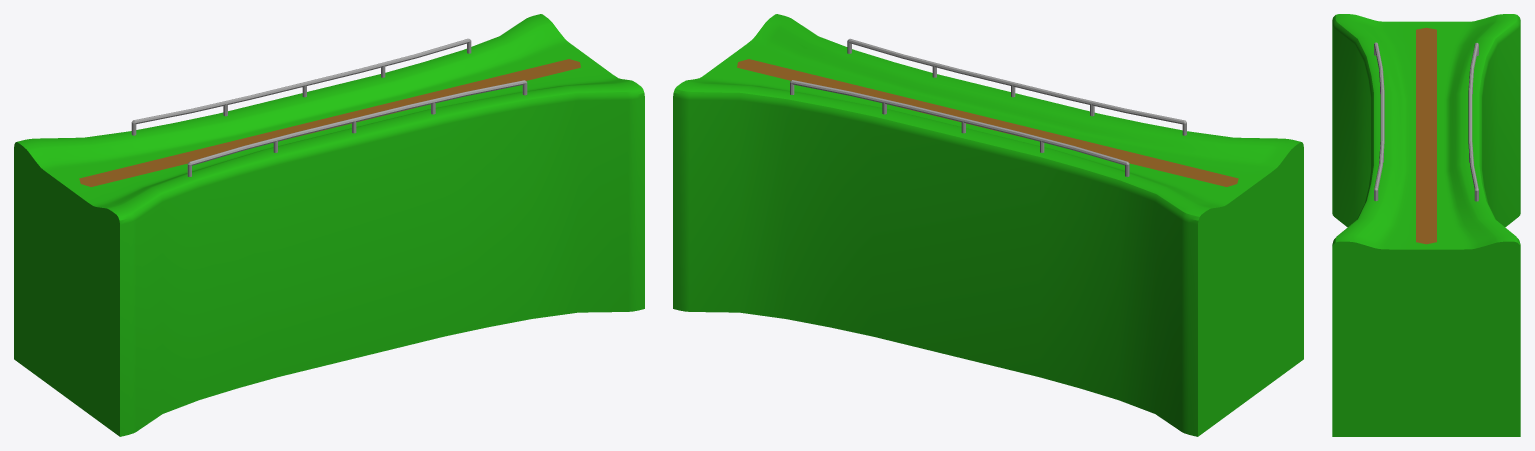
The model's file is дорожка для мото без подъема.fbx.
The picture shows the model from 3 angles, left to right: view 1: azimuth 30°, elevation 25°; view 2: azimuth 150°, elevation 25°; view 3: azimuth 270°, elevation 25°; orthographic projection. The views are drawn at different scales.
Visible parts, largest first — view 1: Cube.025, Cylinder.001, Cylinder; view 2: Cube.025, Cylinder.001, Cylinder; view 3: Cube.025, Cylinder, Cylinder.001.
Boxes of the visible parts, <box> form: Cube.025: <box>14,14,644,436</box>; Cylinder.001: <box>131,38,471,135</box>; Cylinder: <box>187,80,527,176</box>; Cube.025: <box>673,14,1303,436</box>; Cylinder.001: <box>790,80,1129,176</box>; Cylinder: <box>847,38,1186,135</box>; Cube.025: <box>1332,14,1520,436</box>; Cylinder: <box>1374,42,1384,201</box>; Cylinder.001: <box>1468,43,1478,201</box>.
Bounding box in the file's own units: 2000 × 852 × 700.
